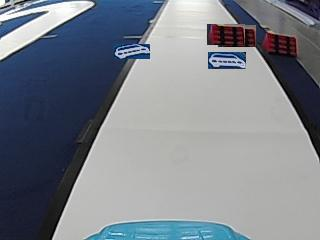bomb: (261, 32, 297, 55)
